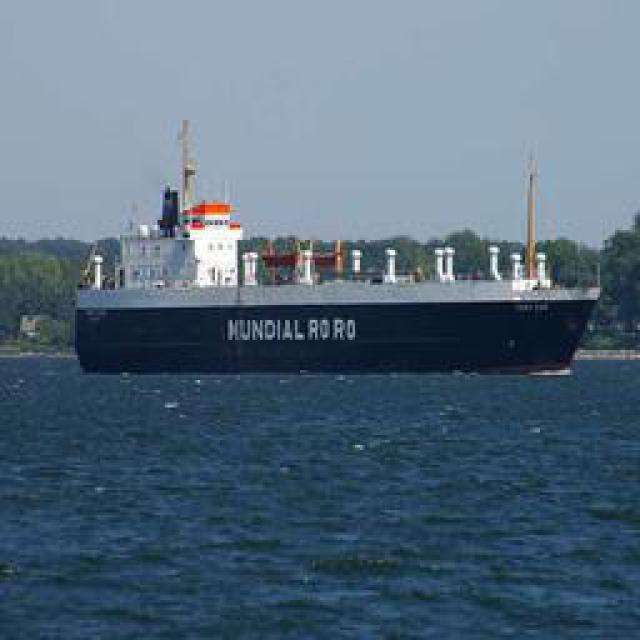Ship: (84, 112, 597, 372)
